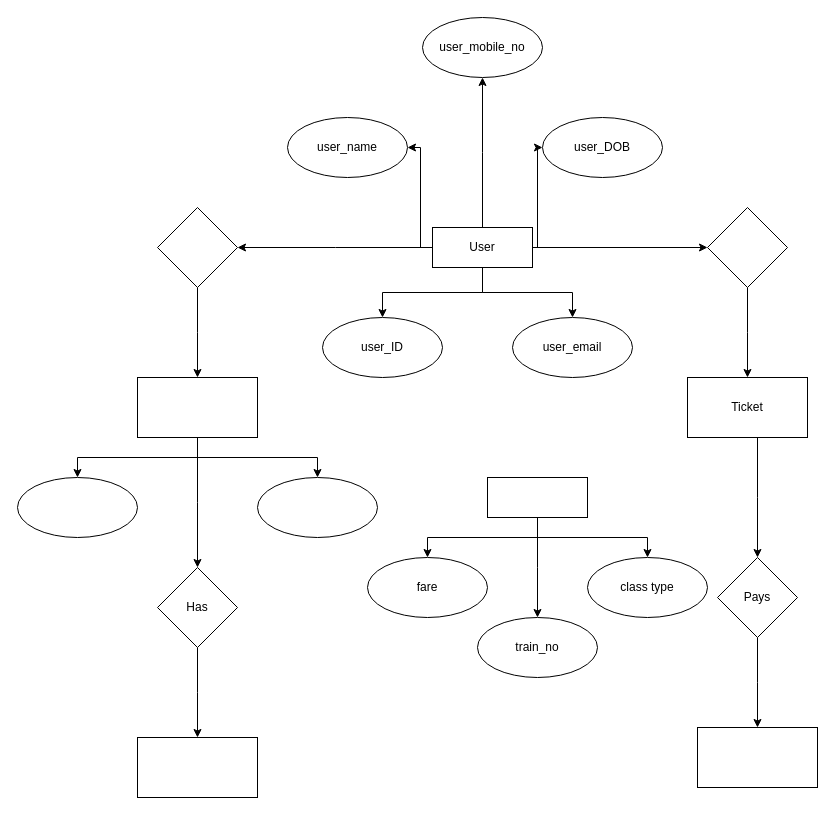
Some shapes in this 835 by 815 pixel diagram are drawn without their labels. The shapes that lost their labels are listed below. From the top down, each one's centre as x and y in pixels, then its label:
At (197,247): "checks for".
At (747,247): "book ticket".
At (197,407): "Train".
At (537,497): "Class".
At (197,767): "Route".
At (757,757): "Payment".
